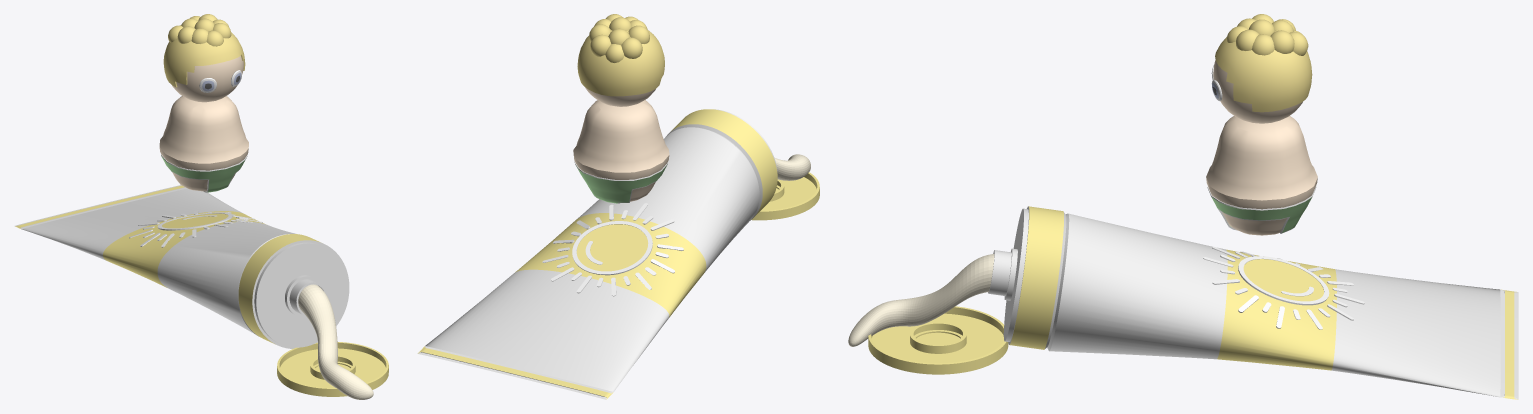
File: sunscreenw_guy.fbx
3 views of the same model, side by side, from view 1: azimuth 30°, elevation 25°; view 2: azimuth 150°, elevation 25°; view 3: azimuth 270°, elevation 25° (orthographic). The views are drawn at different scales.
Parts seen in each view (by area): view 1: Circle.001, Cube.037; view 2: Circle.001, Cube.037; view 3: Circle.001, Cube.037.
Boxes of the visible parts, x1,y1,x2,y2 form: Circle.001: (14, 185, 388, 399); Cube.037: (159, 14, 248, 192); Circle.001: (417, 109, 819, 399); Cube.037: (573, 14, 669, 203); Circle.001: (848, 206, 1518, 399); Cube.037: (1206, 14, 1317, 235).
Size of the model in its own units: 419 by 590 by 1100.
